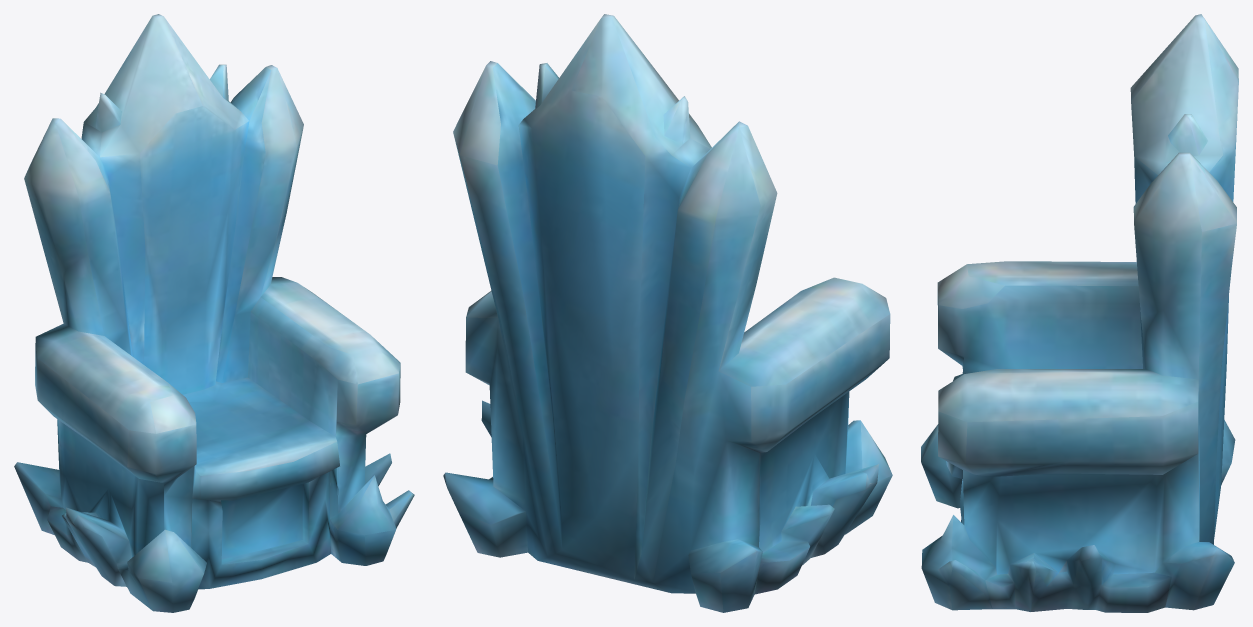
Rendered from lg-ice-throne.glb.
3 renders of one model, left to right at view 1: azimuth 30°, elevation 25°; view 2: azimuth 150°, elevation 25°; view 3: azimuth 270°, elevation 25°, orthographic. The views are drawn at different scales.
Visible parts, largest first — view 1: geometry_0; view 2: geometry_0; view 3: geometry_0.
Part boxes in pixels (x1,y1,x2,y2): geometry_0: (14,14,414,612); geometry_0: (443,14,892,612); geometry_0: (921,14,1238,612).
Size of the model in its own units: 0.6816 by 1 by 0.541.
Materials: 1 (1 with a texture image).
